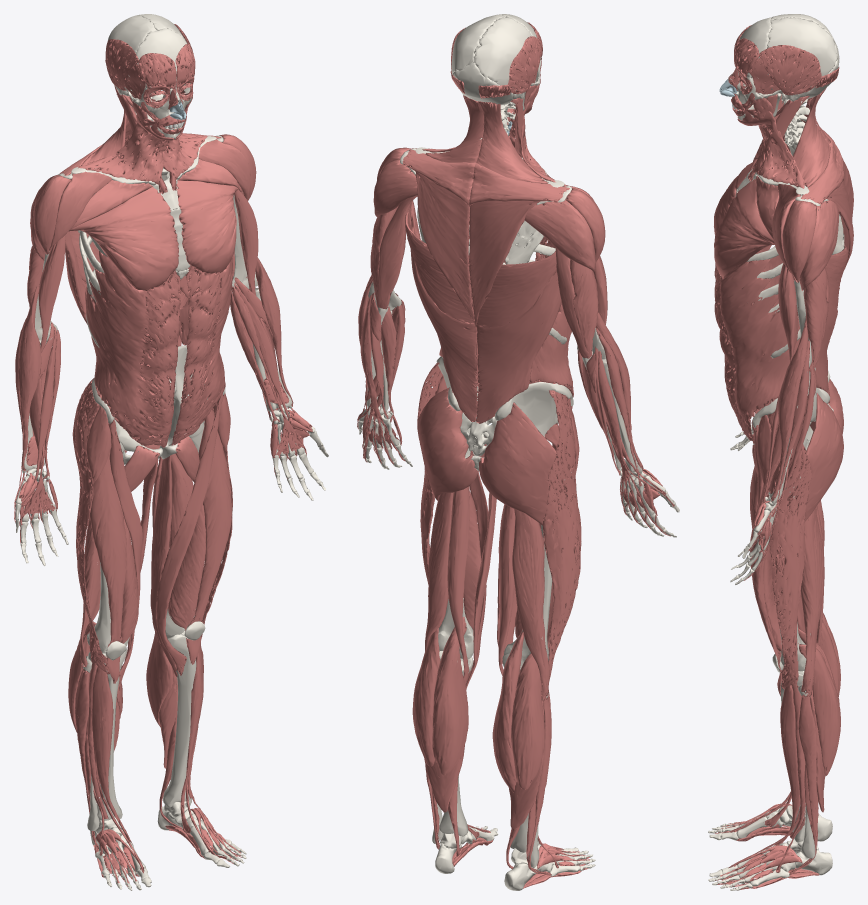
The model's file is muscles-v1.glb.
3 views of the same model, side by side, from view 1: azimuth 30°, elevation 25°; view 2: azimuth 150°, elevation 25°; view 3: azimuth 270°, elevation 25° (orthographic). The views are drawn at different scales.
Visible parts, largest first — view 1: External abdominal oblique muscle.r, External abdominal oblique muscle.l, Sternocostal head of pectoralis major muscle.r, Sternocostal head of pectoralis major muscle.l, Rectus femoris muscle.r, Rectus femoris muscle.l, Sartorius muscle.l, Iliotibial tract.r, Platysma.r, Tibia.l, Vastus medialis muscle.l, Gracilis muscle.l (+43 smaller); view 2: Latissimus dorsi muscle.r, Iliotibial tract.r, Latissimus dorsi muscle.l, Gluteus maximus muscle.r, Descending part of trapezius muscle.l, Long head of biceps femoris.r, Gluteus maximus muscle.l, Descending part of trapezius muscle.r, Medial head of gastrocnemius.l, Lateral head of gastrocnemius.r, Scapular spinal part of deltoid muscle.r, Semitendinosus muscle.l (+39 smaller); view 3: External abdominal oblique muscle.l, Iliotibial tract.l, Sternocostal head of pectoralis major muscle.l, Long head of biceps femoris.l, Gluteus maximus muscle.l, Lateral head of gastrocnemius.l, Temporoparietalis muscle.l, Parietal bone.l, Platysma.l, Brachioradialis muscle.l, Acromial part of deltoid muscle.l, Scapular spinal part of deltoid muscle.l (+39 smaller).
Part boxes in pixels (left/top/right/bottom): External abdominal oblique muscle.r: left=85, top=251, right=180, bottom=447; External abdominal oblique muscle.l: left=171, top=258, right=233, bottom=445; Sternocostal head of pectoralis major muscle.r: left=68, top=186, right=178, bottom=290; Sternocostal head of pectoralis major muscle.l: left=176, top=180, right=238, bottom=273; Rectus femoris muscle.r: left=89, top=446, right=126, bottom=683; Rectus femoris muscle.l: left=186, top=409, right=231, bottom=664; Sartorius muscle.l: left=156, top=393, right=223, bottom=675; Iliotibial tract.r: left=72, top=378, right=109, bottom=674; Platysma.r: left=78, top=114, right=174, bottom=184; Tibia.l: left=163, top=630, right=196, bottom=807; Vastus medialis muscle.l: left=168, top=504, right=205, bottom=650; Gracilis muscle.l: left=150, top=455, right=177, bottom=676; Latissimus dorsi muscle.r: left=476, top=251, right=561, bottom=423; Iliotibial tract.r: left=543, top=390, right=581, bottom=681; Latissimus dorsi muscle.l: left=405, top=201, right=477, bottom=421; Gluteus maximus muscle.r: left=479, top=402, right=556, bottom=525; Descending part of trapezius muscle.l: left=415, top=171, right=476, bottom=326; Long head of biceps femoris.r: left=512, top=509, right=549, bottom=696; Gluteus maximus muscle.l: left=417, top=387, right=478, bottom=500; Descending part of trapezius muscle.r: left=469, top=200, right=540, bottom=326; Medial head of gastrocnemius.l: left=432, top=617, right=468, bottom=775; Lateral head of gastrocnemius.r: left=511, top=653, right=544, bottom=789; Scapular spinal part of deltoid muscle.r: left=524, top=200, right=595, bottom=272; Semitendinosus muscle.l: left=447, top=487, right=469, bottom=684; External abdominal oblique muscle.l: left=714, top=259, right=800, bottom=441; Iliotibial tract.l: left=767, top=411, right=811, bottom=689; Sternocostal head of pectoralis major muscle.l: left=714, top=179, right=774, bottom=277; Long head of biceps femoris.l: left=800, top=507, right=824, bottom=694; Gluteus maximus muscle.l: left=805, top=393, right=843, bottom=521; Lateral head of gastrocnemius.l: left=799, top=644, right=840, bottom=775; Temporoparietalis muscle.l: left=759, top=45, right=821, bottom=95; Parietal bone.l: left=767, top=17, right=837, bottom=86; Platysma.l: left=737, top=111, right=804, bottom=188; Brachioradialis muscle.l: left=771, top=316, right=808, bottom=502; Acromial part of deltoid muscle.l: left=782, top=200, right=816, bottom=282; Scapular spinal part of deltoid muscle.l: left=799, top=200, right=838, bottom=290.
Size of the model in its own units: 0.6687 by 1.7 by 0.267.
